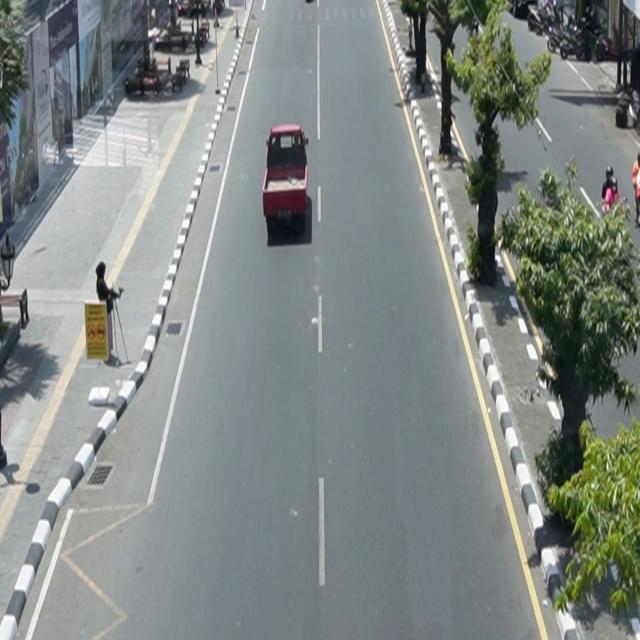car: (263, 124, 310, 235)
